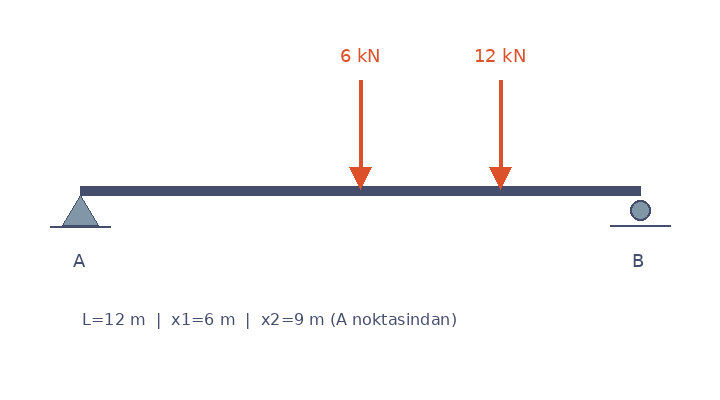pin_support: (61, 190, 99, 226)
point_load: (346, 76, 374, 190), (486, 76, 514, 190)
roller_support: (625, 196, 655, 227)
